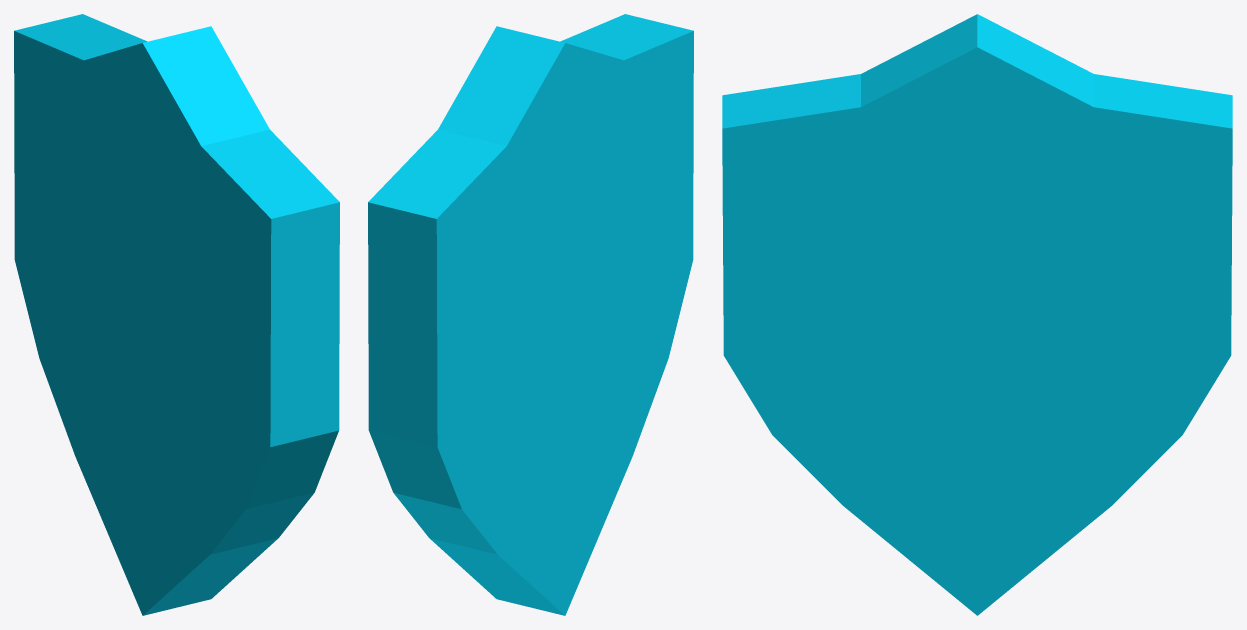
File: shield.fbx
The picture shows the model from 3 angles, left to right: view 1: azimuth 30°, elevation 25°; view 2: azimuth 150°, elevation 25°; view 3: azimuth 270°, elevation 25°; orthographic projection.
Parts seen in each view (by area): view 1: TestTunnel.003; view 2: TestTunnel.003; view 3: TestTunnel.003.
Part boxes in pixels (x1,y1,x2,y2): TestTunnel.003: (14,14,339,615); TestTunnel.003: (368,14,693,615); TestTunnel.003: (722,14,1232,615).
Bounding box in the file's own units: 81.55 × 649 × 528.
